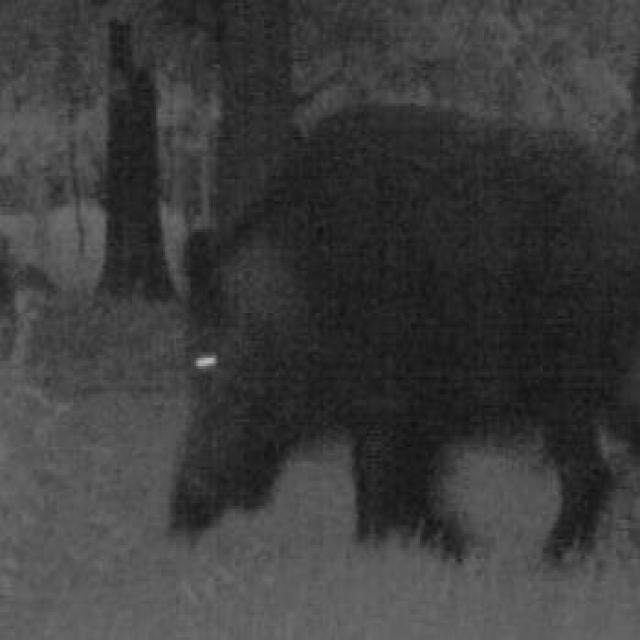pig: (160, 50, 640, 558)
